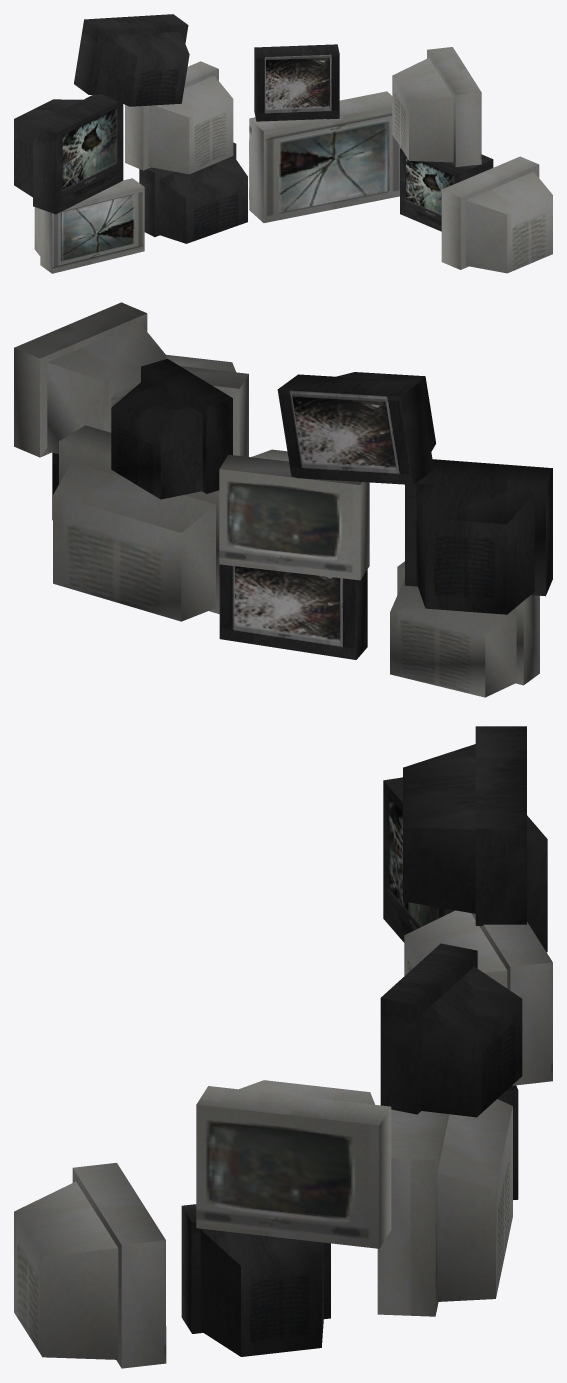
The model's file is tvsmodel.fbx.
The picture shows the model from 3 angles, top to bottom: view 1: azimuth 30°, elevation 25°; view 2: azimuth 150°, elevation 25°; view 3: azimuth 270°, elevation 25°; orthographic projection. The views are drawn at different scales.
Visible parts, largest first — view 1: Mesh_0032.rip; view 2: Mesh_0032.rip; view 3: Mesh_0032.rip.
Part boxes in pixels (<box>): Mesh_0032.rip: <box>14,14,552,273</box>; Mesh_0032.rip: <box>14,302,552,697</box>; Mesh_0032.rip: <box>14,726,552,1368</box>.
Size of the model in its own units: 899 by 440 by 592.
Materials: 1 (1 with a texture image).
